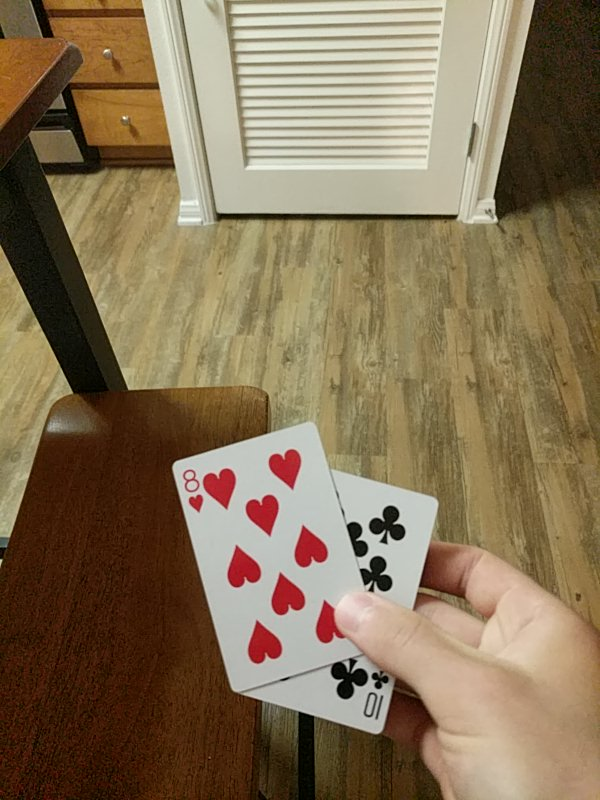Clubs: (239, 464, 439, 737)
Hearts: (171, 422, 385, 694)
